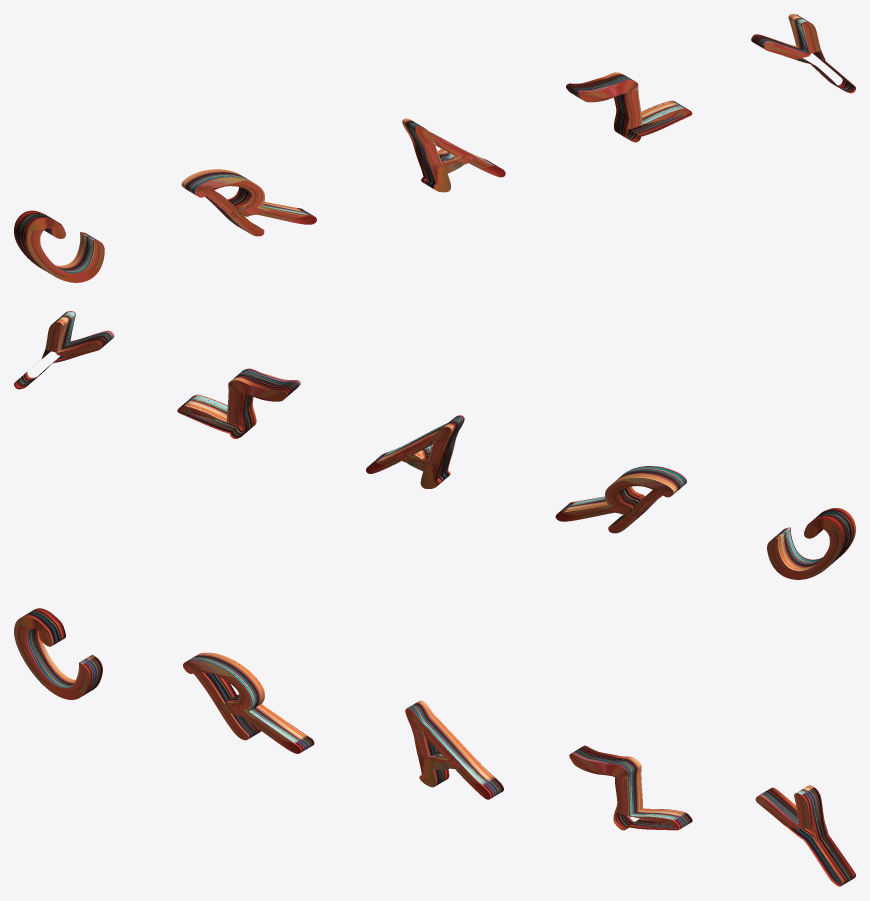
File: crazy.glb
3 renders of one model, top to bottom at view 1: azimuth 30°, elevation 25°; view 2: azimuth 150°, elevation 25°; view 3: azimuth 330°, elevation 25°, orthographic.
Parts seen in each view (by area): view 1: Text; view 2: Text; view 3: Text.
Boxes of the visible parts, x1,y1,x2,y2 form: Text: [14, 14, 855, 282]; Text: [14, 311, 855, 579]; Text: [14, 608, 855, 886].
Size of the model in its own units: 9.3 by 0.8849 by 0.3233.
Materials: 1 (1 with a texture image).
